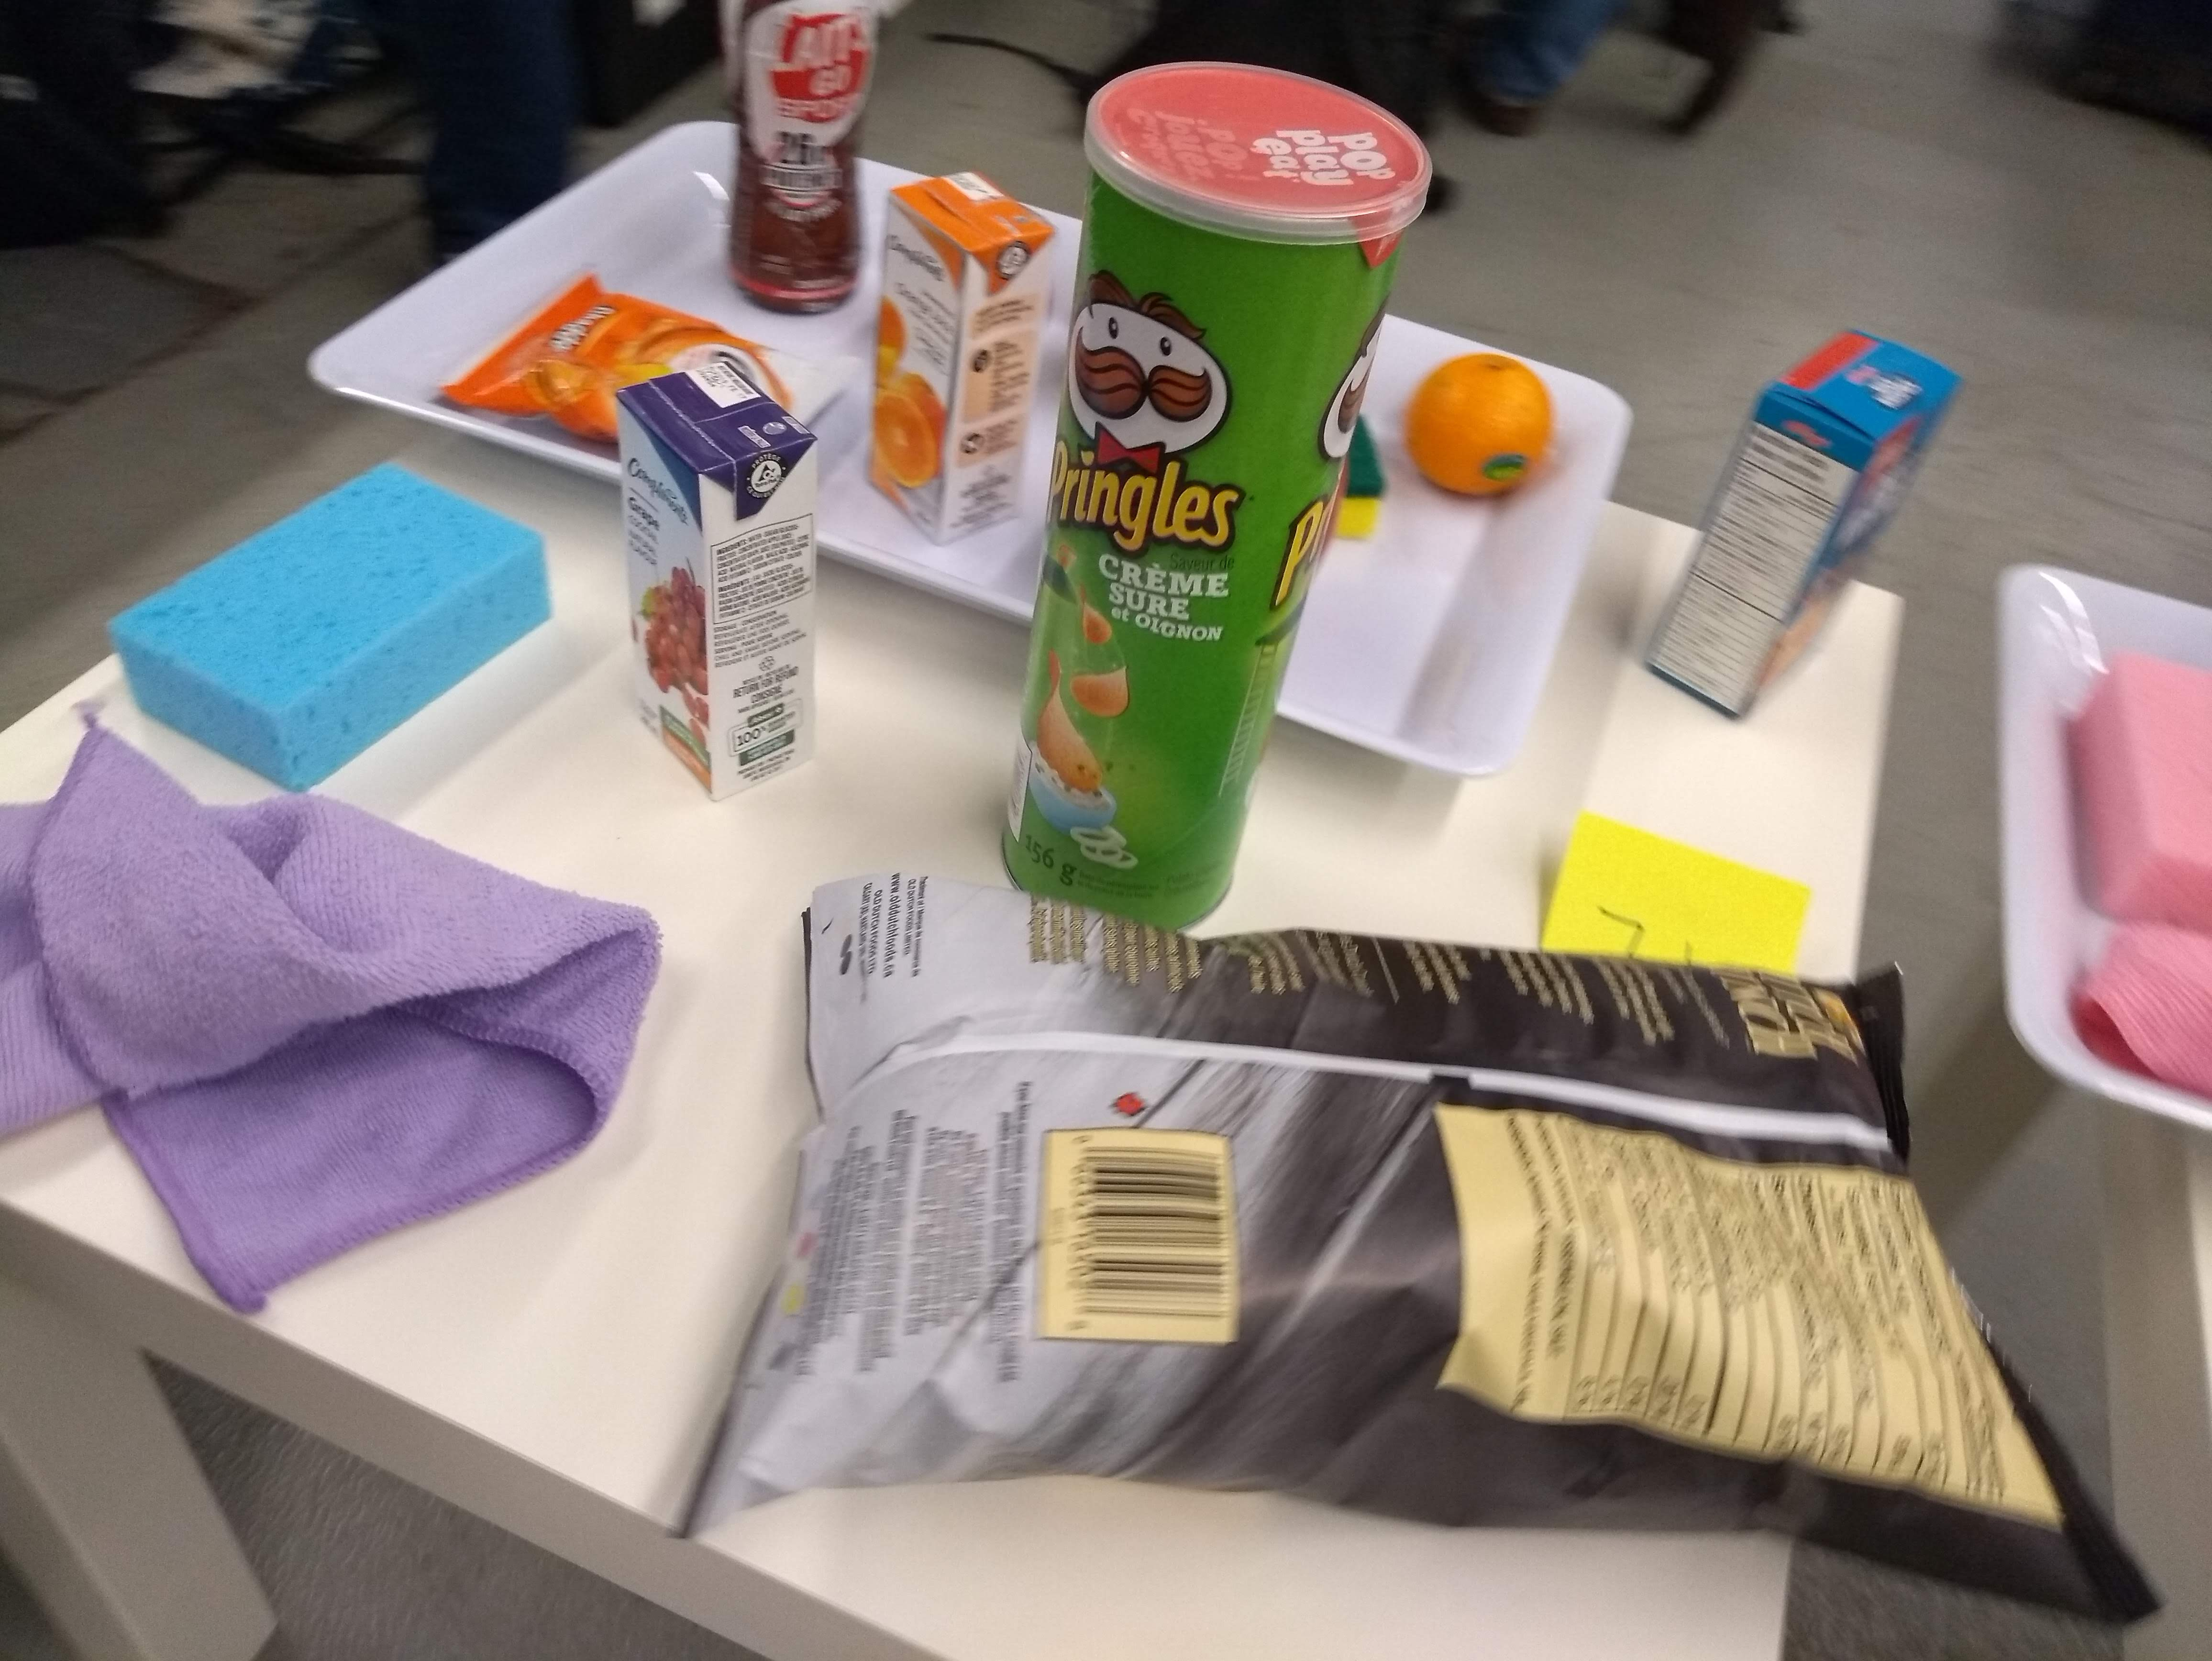cereal: (1642, 311, 1971, 728)
chocolate_drink: (713, 2, 890, 316)
cloth_opl: (0, 740, 673, 1298)
crackers: (466, 265, 790, 447)
grape_juice: (621, 354, 827, 815)
orange: (1397, 335, 1560, 518)
orange_juice: (862, 164, 1055, 560)
potato_chips: (738, 869, 2149, 1623)
pringles: (1007, 49, 1434, 935)
sponge_opl: (101, 454, 560, 762)
